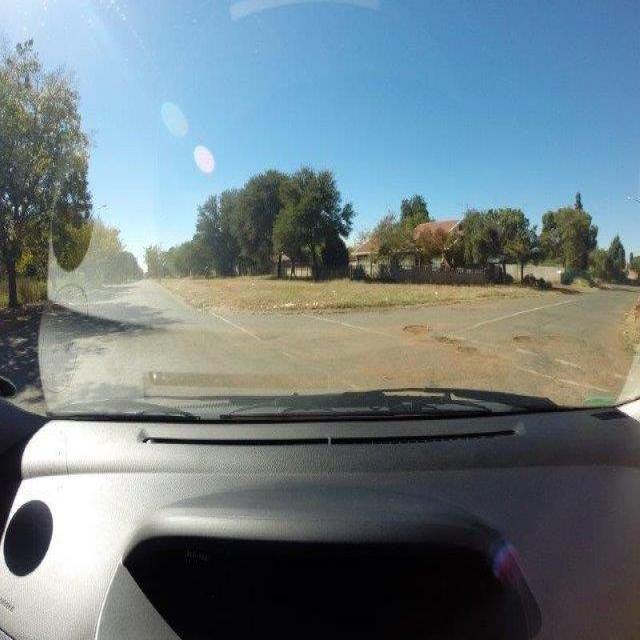lubang: (509, 329, 545, 344), (400, 321, 433, 336), (432, 332, 460, 347), (454, 340, 478, 356)
